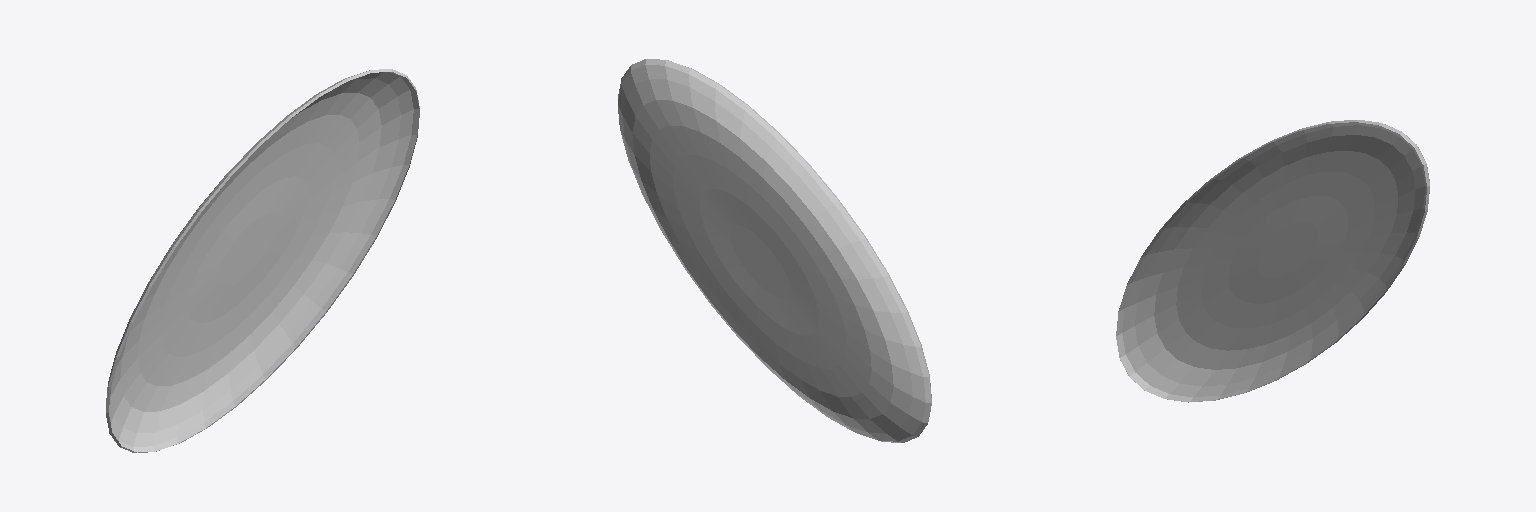
The model's file is Cuenco.obj.
The picture shows the model from 3 angles: view 1: azimuth 30°, elevation 25°; view 2: azimuth 150°, elevation 25°; view 3: azimuth 330°, elevation 25°; orthographic projection.
Visible parts, largest first — view 1: Cuenco_Sphere; view 2: Cuenco_Sphere; view 3: Cuenco_Sphere.
Part boxes in pixels (left/top/right/bottom): Cuenco_Sphere: left=106, top=69, right=419, bottom=452; Cuenco_Sphere: left=618, top=59, right=931, bottom=442; Cuenco_Sphere: left=1116, top=120, right=1429, bottom=402.
Bounding box in the file's own units: 1.31 × 1.31 × 0.122.